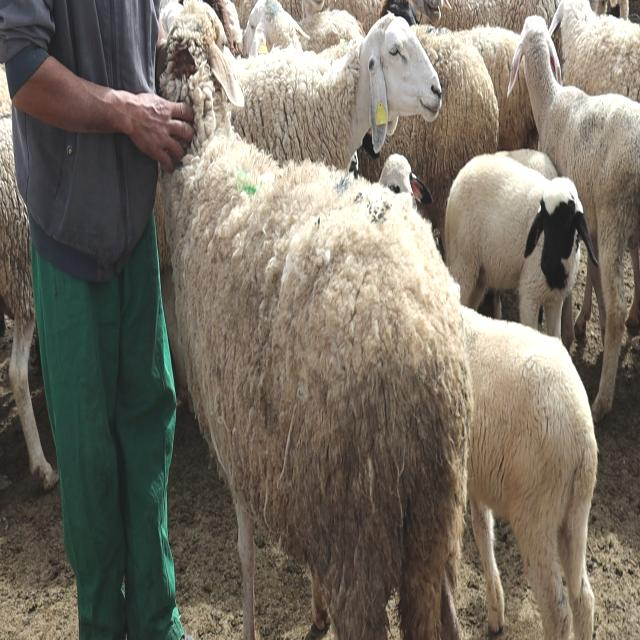Score_3: (158, 0, 473, 639)
